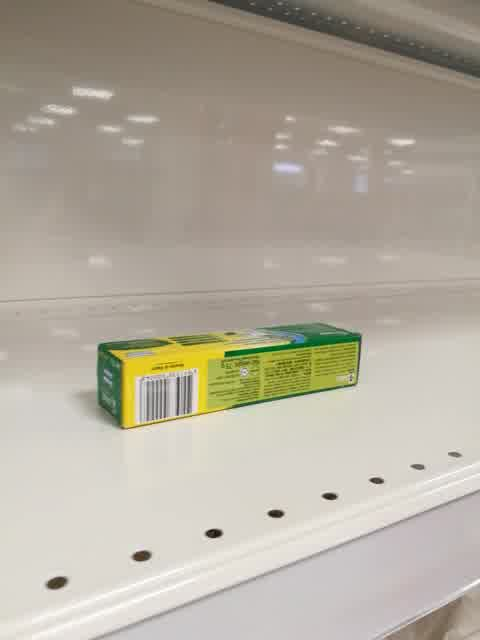toothpaste: (96, 322, 363, 429)
